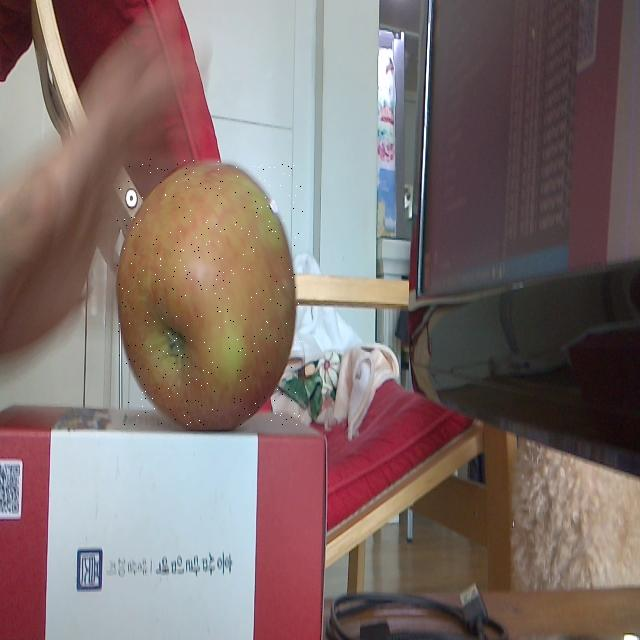apple: (117, 159, 303, 427)
